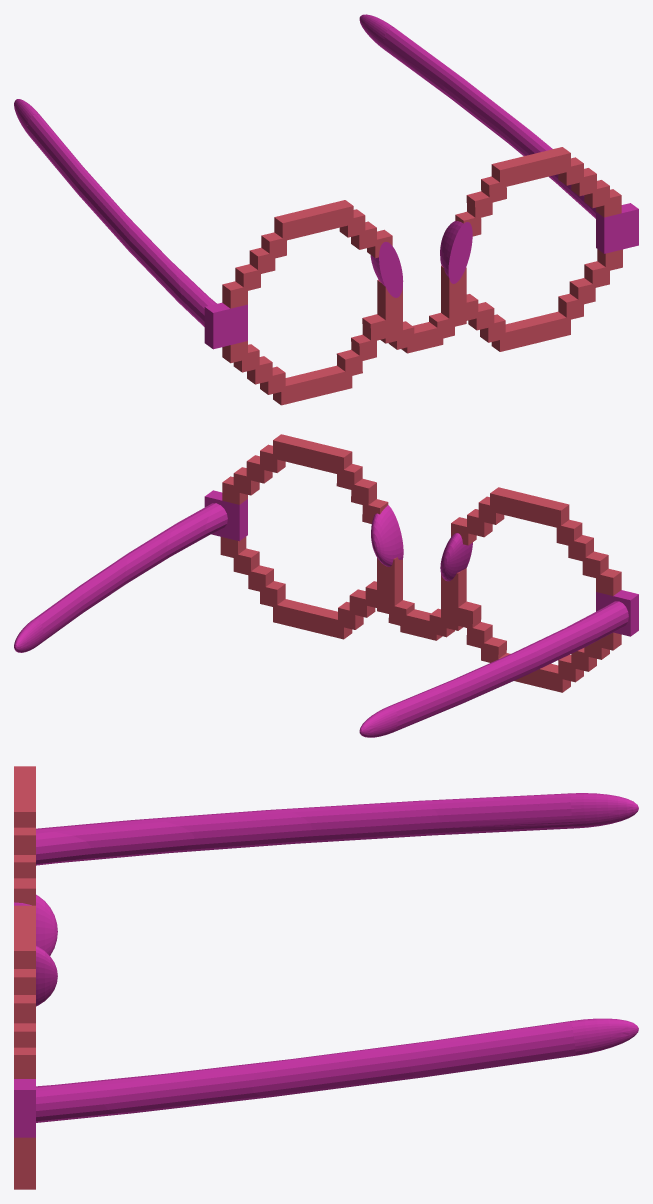
The model's file is jasonGlasses.glb.
3 renders of one model, top to bottom at view 1: azimuth 30°, elevation 25°; view 2: azimuth 150°, elevation 25°; view 3: azimuth 270°, elevation 25°, orthographic. The views are drawn at different scales.
Visible parts, largest first — view 1: Mesh_Mesh_head_geo.001_lambert2SG.001; view 2: Mesh_Mesh_head_geo.001_lambert2SG.001; view 3: Mesh_Mesh_head_geo.001_lambert2SG.001.
Part boxes in pixels (left/top/right/bottom): Mesh_Mesh_head_geo.001_lambert2SG.001: left=14, top=14, right=638, bottom=405; Mesh_Mesh_head_geo.001_lambert2SG.001: left=14, top=434, right=638, bottom=737; Mesh_Mesh_head_geo.001_lambert2SG.001: left=14, top=766, right=638, bottom=1189.
Size of the model in its own units: 147 by 60 by 142.
